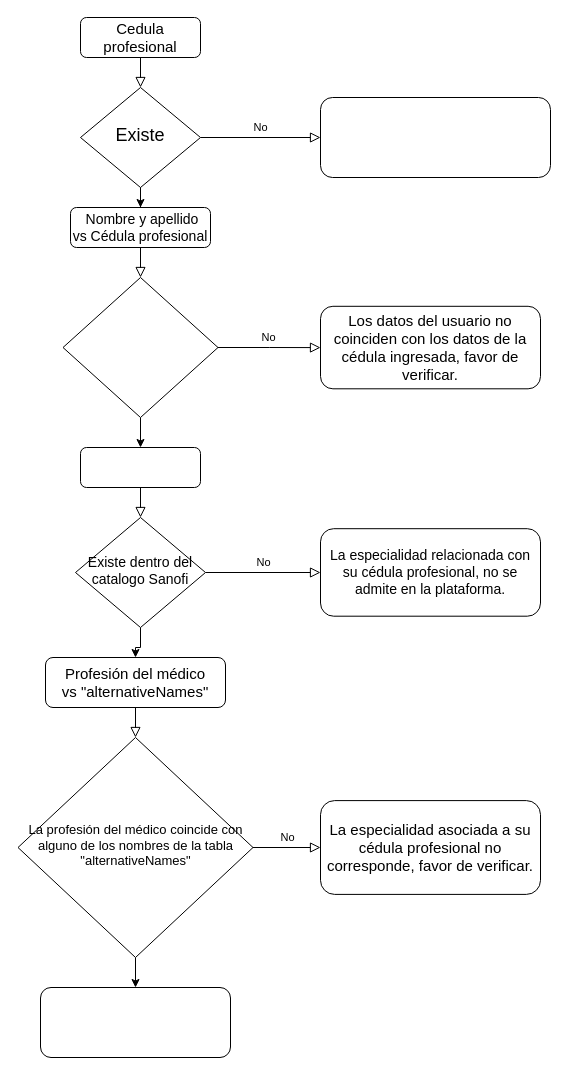
The diagram is 568 pixels wide and 1075 high, and some of its shapes have lost their labels. Each missing label, with the centre of its shape:
Corresponden con la cédula: (x=140, y=347)
La cédula profesional es válida: (x=135, y=1022)
La cédula que se ingresó no existe, favor de verificar nuevamente.: (x=435, y=137)
Profesión seleccionada: (x=140, y=467)
